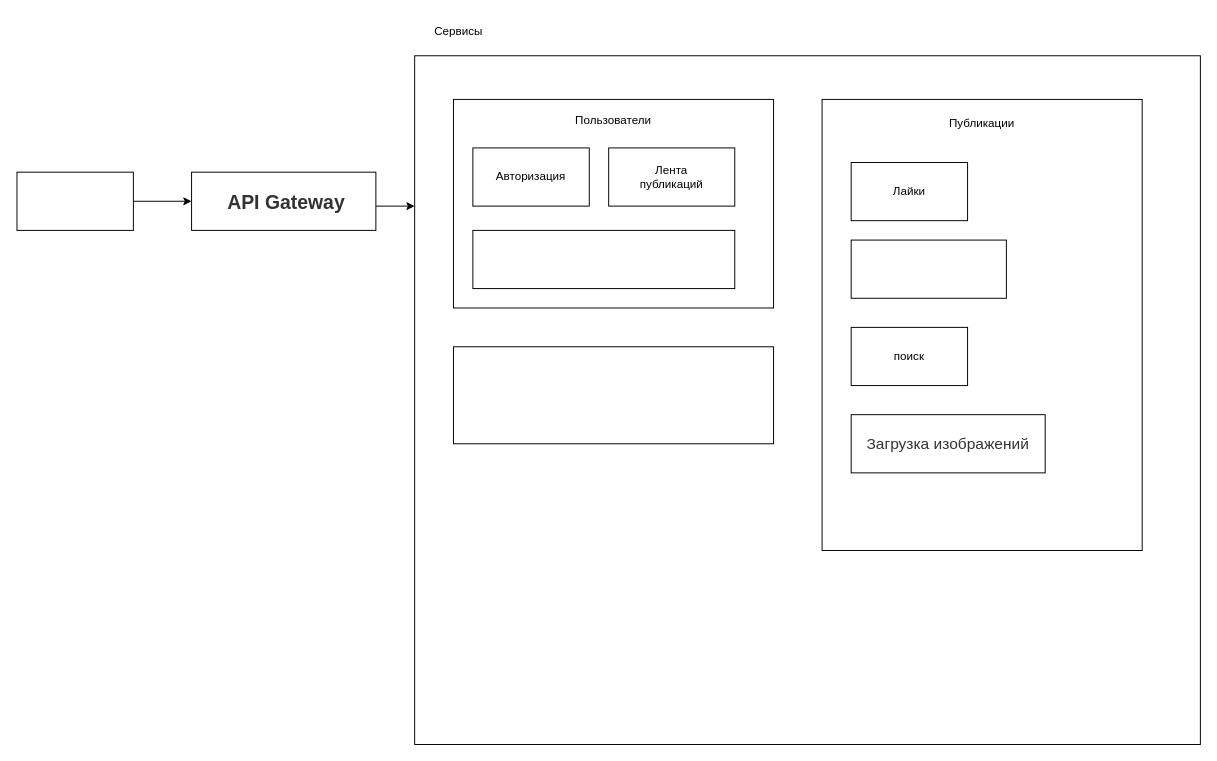
Some shapes in this 1217 by 761 pixel diagram are drawn without their labels. The shapes that lost their labels are listed below. From the top down, each one's centre as x and y in pixels, then its label:
At point 74,200: "Клиент".
At point 603,259: "Подписка на обновления других пользователей".
At point 928,268: "Комментарии".
At point 613,395: "Рассылка почтовых уведомлений на email".
